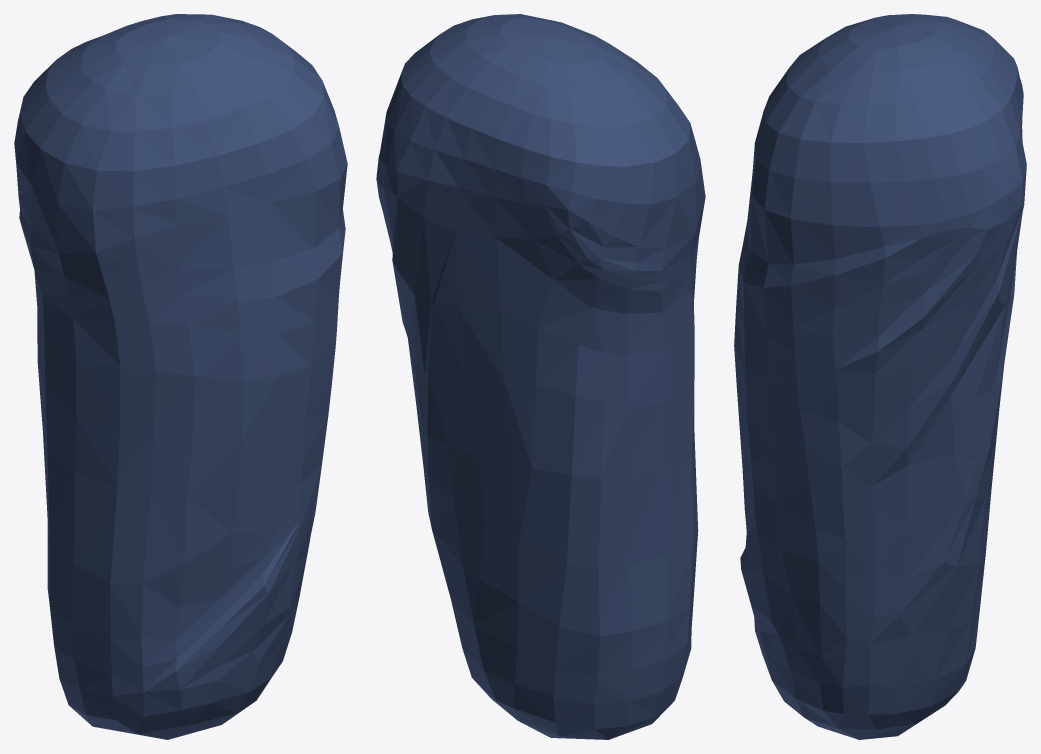
Rendered from RLegLink.dae.
3 renders of one model, left to right at view 1: azimuth 30°, elevation 25°; view 2: azimuth 150°, elevation 25°; view 3: azimuth 270°, elevation 25°, orthographic. The views are drawn at different scales.
Parts seen in each view (by area): view 1: ShapeIndexedFaceSet; view 2: ShapeIndexedFaceSet; view 3: ShapeIndexedFaceSet.
Part boxes in pixels (box(x1,y1,x2,y2)): ShapeIndexedFaceSet: box(14, 14, 347, 739); ShapeIndexedFaceSet: box(376, 14, 705, 739); ShapeIndexedFaceSet: box(734, 14, 1026, 739).
Size of the model in its own units: 0.1954 by 0.1711 by 0.4559.
